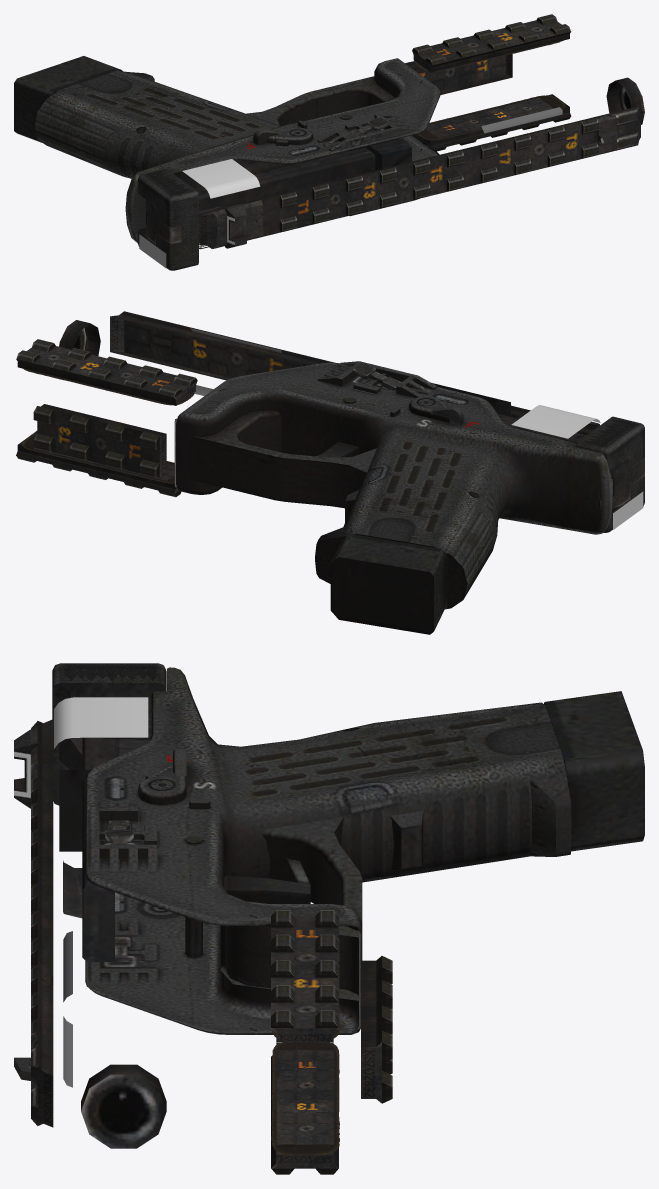
Rendered from t6_wpn_pistol_kard_view_LOD0.obj.
The picture shows the model from 3 angles, top to bottom: view 1: azimuth 30°, elevation 25°; view 2: azimuth 150°, elevation 25°; view 3: azimuth 270°, elevation 25°; orthographic projection. The views are drawn at different scales.
Visible parts, largest first — view 1: mtl_t6_wpn_pistol_kard, mtl_t6_wpn_pistol_kard_camo3, mtl_t6_wpn_pistol_kard_camo1, mtl_t6_wpn_pistol_kard_camo2, mtl_player_icon, mtl_clan_tag; view 2: mtl_t6_wpn_pistol_kard, mtl_t6_wpn_pistol_kard_camo3, mtl_t6_wpn_pistol_kard_camo2, mtl_t6_wpn_pistol_kard_camo1, mtl_player_icon, mtl_clan_tag; view 3: mtl_t6_wpn_pistol_kard, mtl_t6_wpn_pistol_kard_camo3, mtl_t6_wpn_pistol_kard_camo1, mtl_t6_wpn_pistol_kard_camo2, mtl_player_icon.
Boxes of the visible parts, bbox=[...] form: mtl_t6_wpn_pistol_kard: bbox=[34, 14, 640, 270]; mtl_t6_wpn_pistol_kard_camo3: bbox=[14, 56, 598, 248]; mtl_t6_wpn_pistol_kard_camo1: bbox=[195, 77, 644, 241]; mtl_t6_wpn_pistol_kard_camo2: bbox=[146, 40, 565, 249]; mtl_player_icon: bbox=[182, 159, 260, 198]; mtl_clan_tag: bbox=[139, 234, 166, 268]; mtl_t6_wpn_pistol_kard: bbox=[16, 311, 644, 634]; mtl_t6_wpn_pistol_kard_camo3: bbox=[331, 362, 638, 630]; mtl_t6_wpn_pistol_kard_camo2: bbox=[22, 368, 644, 508]; mtl_t6_wpn_pistol_kard_camo1: bbox=[59, 320, 585, 487]; mtl_player_icon: bbox=[511, 405, 600, 438]; mtl_clan_tag: bbox=[613, 491, 643, 529]; mtl_t6_wpn_pistol_kard: bbox=[14, 663, 571, 1174]; mtl_t6_wpn_pistol_kard_camo3: bbox=[31, 663, 644, 1035]; mtl_t6_wpn_pistol_kard_camo1: bbox=[59, 737, 361, 1148]; mtl_t6_wpn_pistol_kard_camo2: bbox=[101, 713, 339, 1154]; mtl_player_icon: bbox=[54, 697, 148, 748].
Size of the model in its own units: 30.66 by 5.56 by 20.7.
